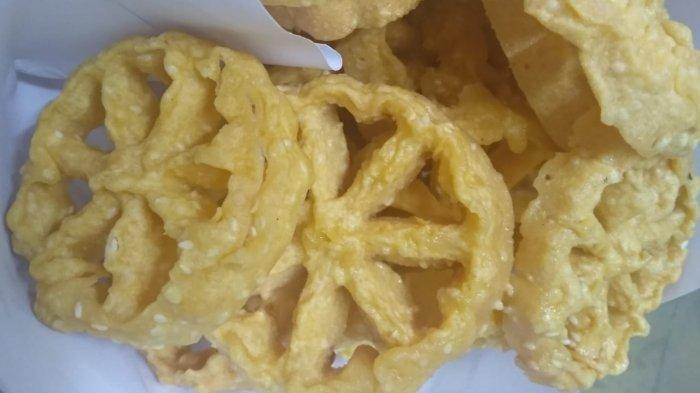kembang_goyang: (6, 41, 269, 333)
